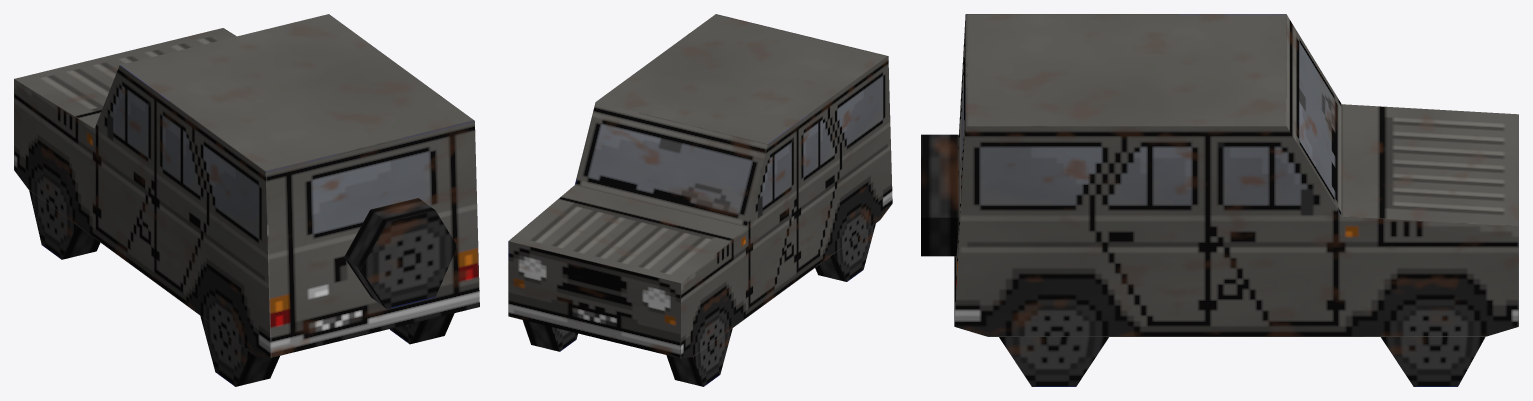
File: real_uaz469.glb
3 views of the same model, side by side, from view 1: azimuth 30°, elevation 25°; view 2: azimuth 150°, elevation 25°; view 3: azimuth 270°, elevation 25° (orthographic). The views are drawn at different scales.
Visible parts, largest first — view 1: hull; view 2: hull; view 3: hull.
Boxes of the visible parts, x1,y1,x2,y2 form: hull: (14, 14, 479, 386); hull: (508, 14, 892, 386); hull: (921, 14, 1518, 386).
Size of the model in its own units: 0.9776 by 1.06 by 2.2.
Materials: 1 (1 with a texture image).
